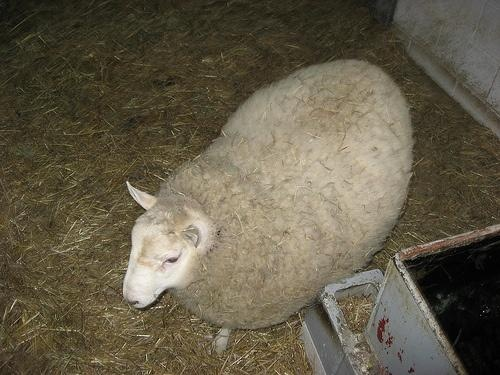sheep: (117, 51, 423, 354)
